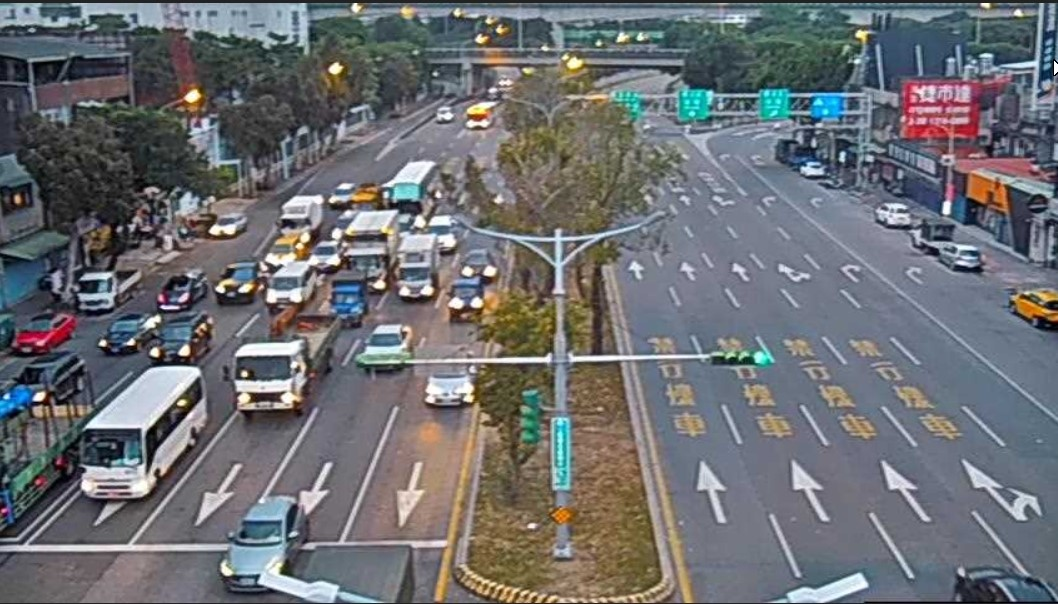Bus: (85, 365, 208, 515), (230, 315, 345, 416), (345, 210, 395, 287), (388, 157, 440, 218), (396, 234, 440, 302), (278, 189, 329, 247), (463, 100, 503, 130)
Business Passenger Car: (999, 270, 1058, 329)
Private Passenger Car: (216, 489, 299, 589), (352, 309, 419, 378), (15, 353, 82, 409), (97, 299, 158, 354), (12, 307, 73, 359), (152, 313, 213, 364), (426, 350, 475, 409), (150, 262, 205, 309), (936, 236, 985, 280), (440, 287, 493, 325), (462, 236, 503, 284), (866, 185, 907, 233), (270, 263, 312, 308), (217, 256, 258, 301), (203, 209, 248, 244), (312, 239, 343, 269), (330, 183, 356, 210), (799, 159, 826, 183)
